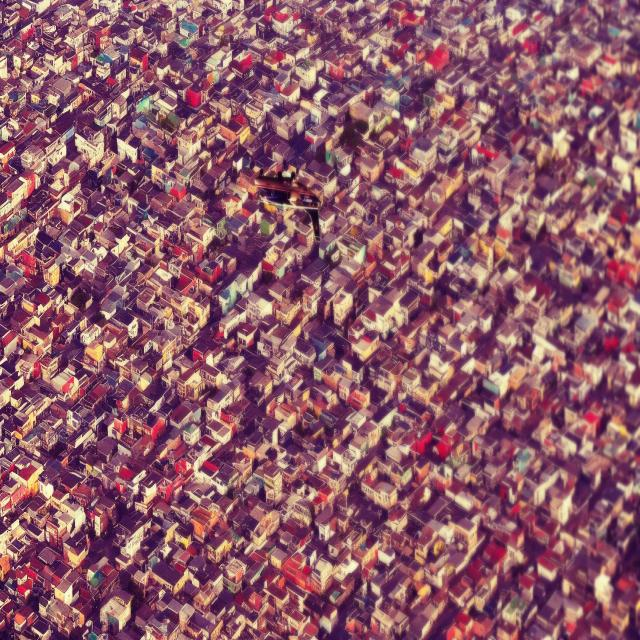airplane: (255, 176, 321, 240)
